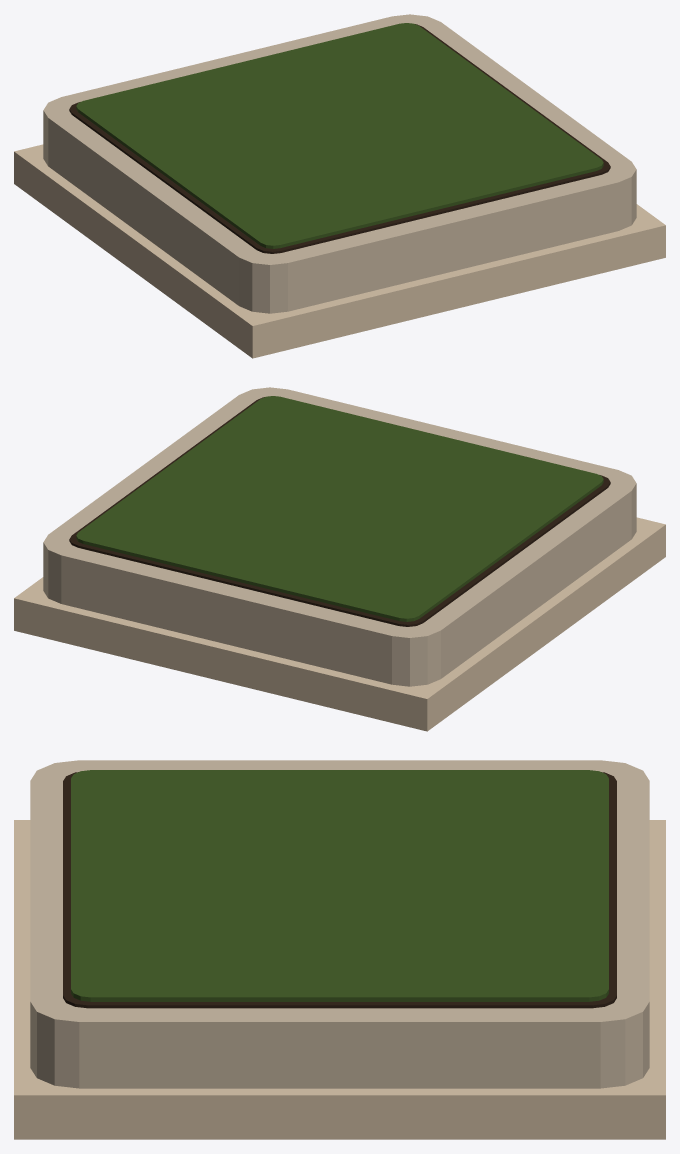
File: city_roof_planted_4.glb
3 views of the same model, one above another, from view 1: azimuth 30°, elevation 25°; view 2: azimuth 150°, elevation 25°; view 3: azimuth 270°, elevation 25° (orthographic). The views are drawn at different scales.
Parts seen in each view (by area): view 1: CityRoofPlanted4_Meadow, CityRoofPlanted4_Kerb, CityRoofPlanted4_Slab, CityRoofPlanted4_Soil; view 2: CityRoofPlanted4_Meadow, CityRoofPlanted4_Kerb, CityRoofPlanted4_Slab, CityRoofPlanted4_Soil; view 3: CityRoofPlanted4_Meadow, CityRoofPlanted4_Kerb, CityRoofPlanted4_Slab, CityRoofPlanted4_Soil.
Part boxes in pixels (x1,y1,x2,y2): CityRoofPlanted4_Meadow: (76,23,603,248); CityRoofPlanted4_Kerb: (43,14,636,313); CityRoofPlanted4_Slab: (14,144,665,358); CityRoofPlanted4_Soil: (69,24,610,253); CityRoofPlanted4_Meadow: (76,396,603,621); CityRoofPlanted4_Kerb: (43,387,636,686); CityRoofPlanted4_Slab: (14,517,665,731); CityRoofPlanted4_Soil: (69,397,610,626); CityRoofPlanted4_Meadow: (71,770,608,1001); CityRoofPlanted4_Kerb: (30,760,649,1088); CityRoofPlanted4_Slab: (14,820,665,1139); CityRoofPlanted4_Soil: (63,772,616,1008).
Bounding box in the file's own units: 4 × 0.8 × 4.
